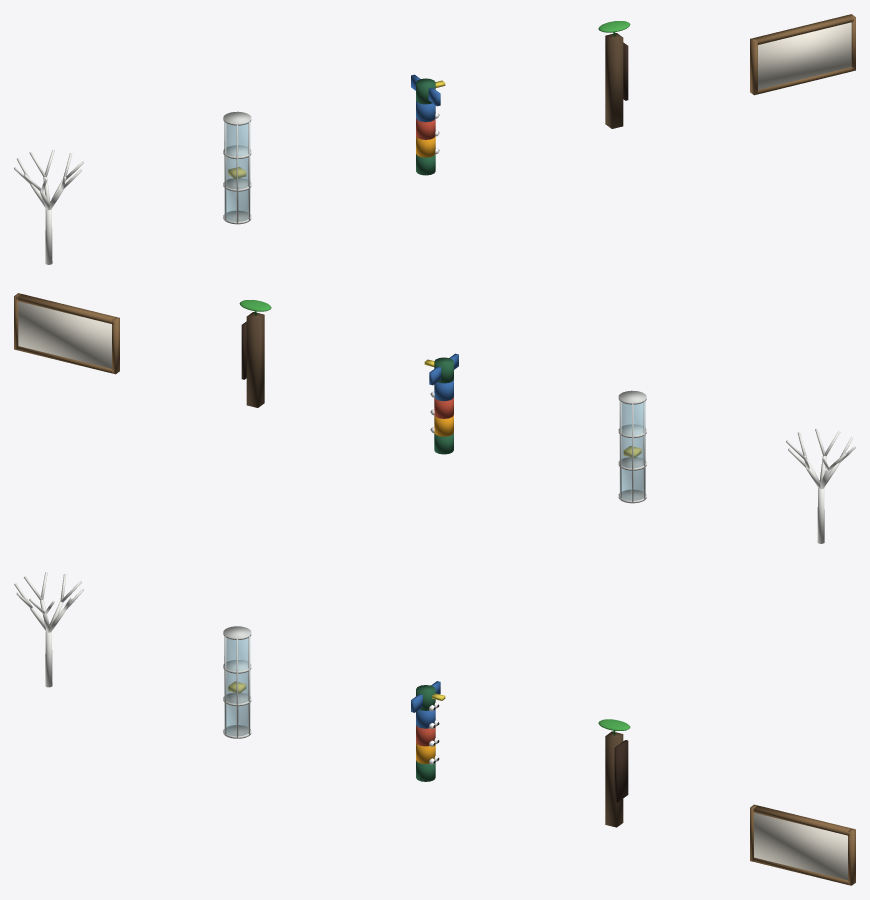
The model's file is buildings-kit.glb.
3 views of the same model, one above another, from view 1: azimuth 30°, elevation 25°; view 2: azimuth 150°, elevation 25°; view 3: azimuth 330°, elevation 25° (orthographic).
Visible parts, largest first — view 1: mural_wall, elevator, rain_sign, totem, tree_column; view 2: mural_wall, elevator, rain_sign, totem, tree_column; view 3: mural_wall, elevator, rain_sign, totem, tree_column.
Boxes of the visible parts, x1,y1,x2,y2 form: mural_wall: (750, 14, 855, 95); elevator: (223, 111, 251, 224); rain_sign: (598, 21, 630, 128); totem: (411, 74, 445, 175); tree_column: (14, 149, 83, 264); mural_wall: (14, 293, 119, 374); elevator: (618, 390, 646, 503); rain_sign: (239, 300, 271, 407); totem: (424, 353, 458, 454); tree_column: (786, 428, 855, 543); mural_wall: (750, 804, 855, 885); elevator: (223, 626, 251, 738); rain_sign: (598, 719, 630, 827); totem: (411, 681, 445, 781); tree_column: (14, 572, 83, 687).
Size of the model in its own units: 8.86 by 1.05 by 0.658.
